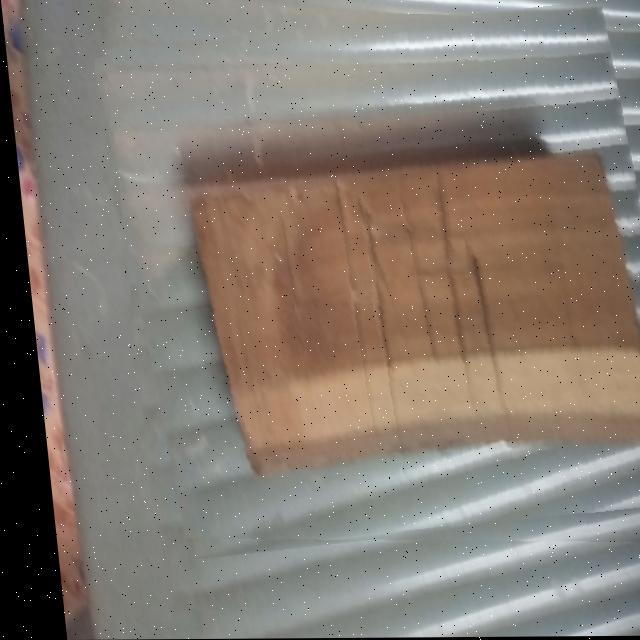wood: (100, 13, 640, 546)
